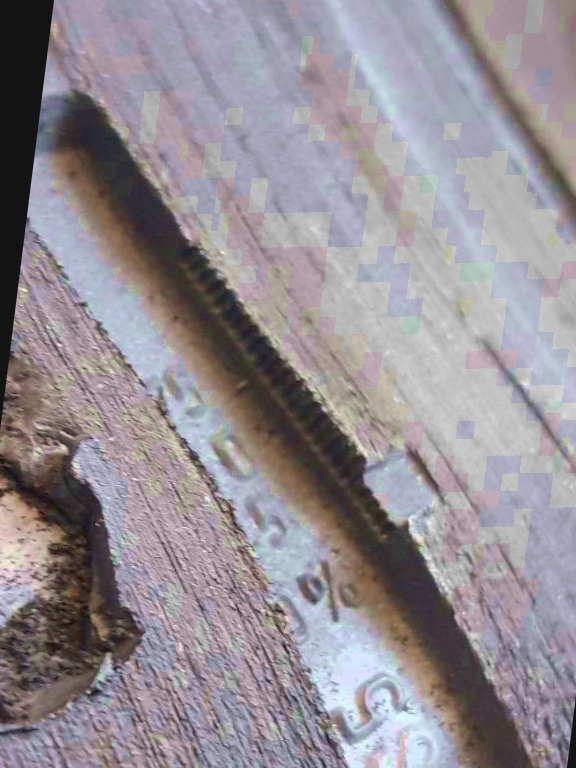temoin:0: (316, 408, 470, 559)
